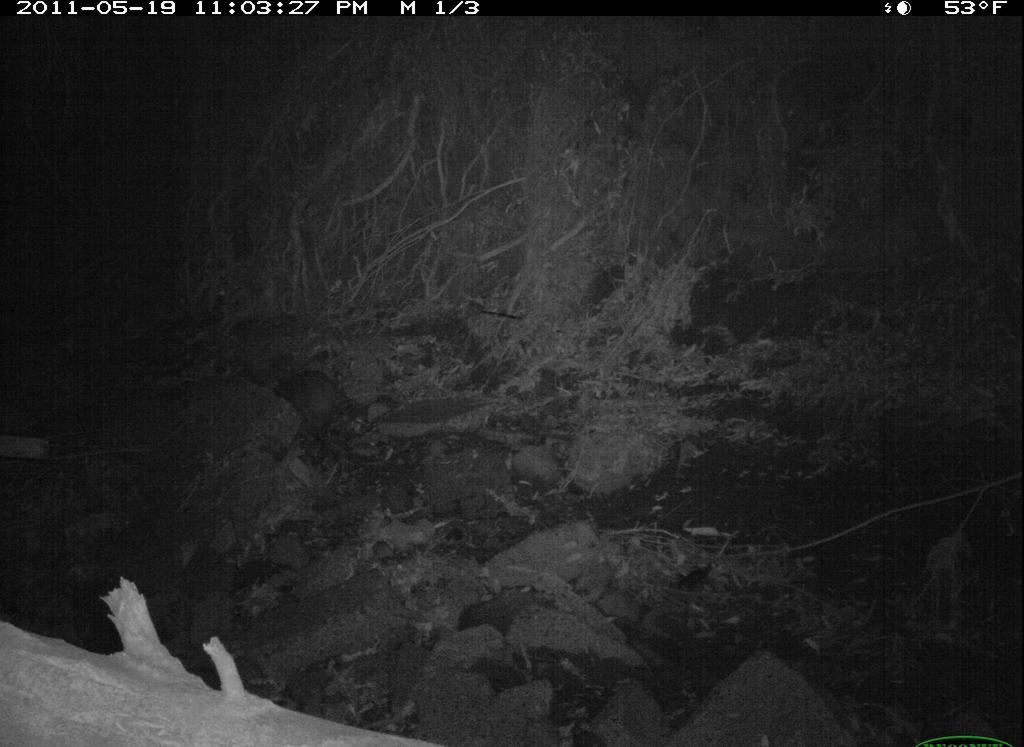raccoon: (269, 364, 370, 455)
